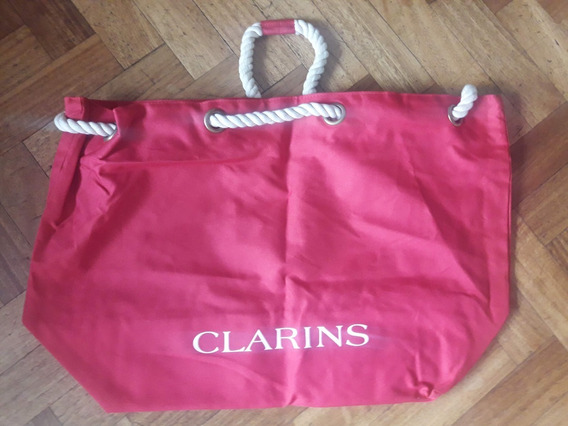cartera: (22, 16, 515, 416)
